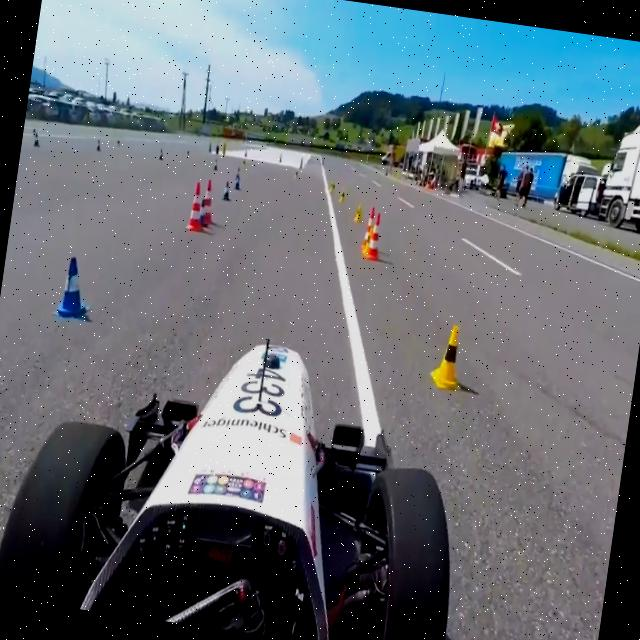blue_cone: (52, 253, 98, 324), (220, 180, 234, 203)
large_orange_cone: (184, 180, 208, 232), (366, 209, 384, 263), (200, 178, 218, 228), (360, 206, 375, 260)
yellow_cone: (427, 318, 469, 396), (364, 227, 374, 256), (353, 202, 365, 224)
